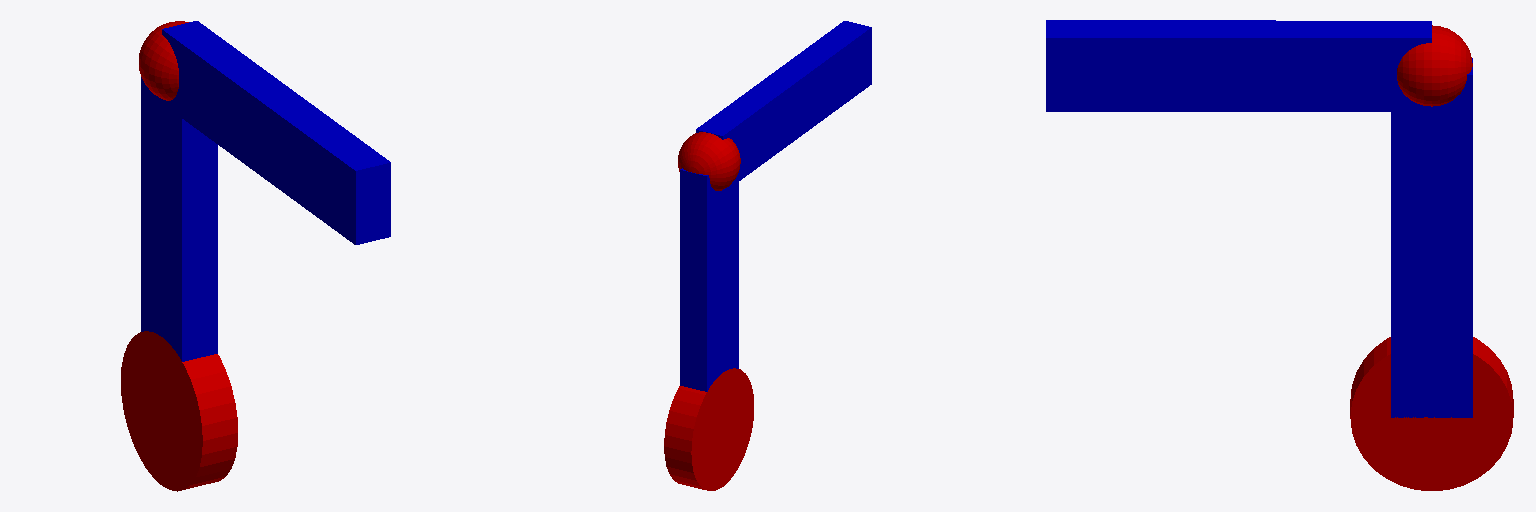
robot.urdf — TwoLinkStruct7906941462:
<?xml version="1.0"?>
<robot  name="TwoLinkStruct7906941462" >
 <material  name="blue" >
  <color  rgba="0 0 0.8 1.0" />
 </material>
 <material  name="red" >
  <color  rgba="0.8 0 0 1.0" />
 </material>
 <link  name="base_link" >
  <visual >
   <origin  rpy="0 1.5707 0"  xyz="0 0 0" />
   <material  name="red" />
   <geometry >
    <cylinder  length="0.05"  radius="0.1" />
   </geometry>
  </visual>
 </link>
 <joint  type="revolute"  name="joint1" >
  <parent  link="base_link" />
  <child  link="link1" />
  <origin  xyz="0 0 0"  rpy="0 0 0" />
  <axis  xyz="1 0 0" />
 </joint>
 <link  name="link1" >
  <inertial >
   <origin  rpy="0 0 0"  xyz="0 0 0.23165449924946352" />
   <mass  value="1.16347092363321" />
   <inertia  ixy="0.0"  iyy="0.0004847795515138375"  izz="0.021054482816478693"  ixz="0.0"  ixx="0.021054482816478693"  iyz="0.0" />
  </inertial>
  <visual >
   <origin  rpy="0 0 0"  xyz="0 0 0.23165449924946352" />
   <material  name="blue" />
   <geometry >
    <box  size="0.05 0.1 0.46330899849892704" />
   </geometry>
  </visual>
 </link>
 <joint  type="fixed"  name="joint-joint-1" >
  <parent  link="link1" />
  <child  link="joint-link-1" />
  <origin  xyz="0 0 0.46330899849892704"  rpy="1.5707 0 0" />
  <axis  xyz="1 0 0" />
 </joint>
 <link  name="joint-link-1" >
  <inertial >
   <origin  rpy="0 0 0"  xyz="0 0 0" />
   <mass  value="0.5929468383849513" />
   <inertia  ixy="0"  iyy="0"  izz="0"  ixz="0"  ixx="0"  iyz="0" />
  </inertial>
  <visual >
   <origin  rpy="0 0 0"  xyz="0 0 0" />
   <material  name="red" />
   <geometry >
    <sphere  radius="0.05" />
   </geometry>
  </visual>
 </link>
 <joint  type="revolute"  name="joint2" >
  <parent  link="link1" />
  <child  link="link2" />
  <origin  xyz="0 0 0.46330899849892704"  rpy="1.5707 0 0" />
  <axis  xyz="1 0 0" />
 </joint>
 <link  name="link2" >
  <inertial >
   <origin  rpy="0 0 0"  xyz="0 0 0.23614240457787478" />
   <mass  value="1.1970724539278215" />
   <inertia  ixy="0.0"  iyy="0.0004847795515138375"  izz="0.021868690712173632"  ixz="0.0"  ixx="0.021868690712173632"  iyz="0.0" />
  </inertial>
  <visual >
   <origin  rpy="0 0 0"  xyz="0 0 0.23614240457787478" />
   <material  name="blue" />
   <geometry >
    <box  size="0.05 0.1 0.47228480915574955" />
   </geometry>
  </visual>
 </link>
 <joint  type="fixed"  name="eef_joint" >
  <parent  link="link2" />
  <child  link="eef" />
  <origin  xyz="0 0 0.47228480915574955"  rpy="0 0 0" />
 </joint>
 <link  name="eef" >
  <inertial >
   <origin  rpy="0 0 0"  xyz="0 0 0" />
   <mass  value="1" />
   <inertia  ixy="0"  iyy="0"  izz="0"  ixz="0"  ixx="0"  iyz="0" />
  </inertial>
 </link>
 <transmission  name="motor1" >
  <type  xmltext="SimpleTransmission" >
   SimpleTransmission
  </type>
  <actuator  name="motor1" >
   <mechanicalreduction  xmltext="1" >
    1
   </mechanicalreduction>
  </actuator>
  <joint  name="joint1" />
 </transmission>
 <transmission  name="motor2" >
  <type  xmltext="SimpleTransmission" >
   SimpleTransmission
  </type>
  <actuator  name="motor2" >
   <mechanicalreduction  xmltext="1" >
    1
   </mechanicalreduction>
  </actuator>
  <joint  name="joint2" />
 </transmission>
</robot>

<!-- {'carti': array([-0.1 ,  0.14,  0.85]), 'cartd': array([-0.1 ,  0.32,  1.29]), 'tau_mu': 0.14626291443588682, 'b0': 0.7446877888854928, 'Km': 2.3898283577258357, 'k_velocity': 2.118824905959426, 'tau_max_m': 4.877246062899967, 'omega_max_m': 4950.929707110646, 'gear_ratio': 20.82737411462478, 'Kp': 25.327829098554183, 'Kd': 19.70387999184219, 'm_m': 0.5929468383849513, 'l1': 0.46330899849892704, 'l2': 0.47228480915574955, 'k1': 24233.856307084956, 'k2': 351973437.3514374, 'k3': 254219343.42176357}-->

--- Facts derived from the render (not from the file) ---
The picture shows the robot from 3 angles, left to right: view 1: azimuth 30°, elevation 25°; view 2: azimuth 150°, elevation 25°; view 3: azimuth 270°, elevation 25°; orthographic projection.
Robot: TwoLinkStruct7906941462 — 5 links, 4 joints (2 revolute, 2 fixed); root link base_link; default pose: all joints at 0.
Links seen in each view (by area): view 1: link2, link1, base_link, joint-link-1; view 2: link1, link2, base_link, joint-link-1; view 3: link2, link1, base_link, joint-link-1.
Link boxes in pixels (x1,y1,x2,y2): link2: (162, 21, 390, 244); link1: (141, 77, 217, 361); base_link: (121, 331, 237, 491); joint-link-1: (139, 21, 188, 100); link1: (680, 168, 738, 391); link2: (696, 21, 871, 189); base_link: (664, 368, 753, 490); joint-link-1: (678, 132, 740, 190); link2: (1046, 20, 1431, 111); link1: (1391, 58, 1472, 417); base_link: (1350, 337, 1513, 490); joint-link-1: (1397, 25, 1472, 106).
Bounding box of the posed robot: 0.1 × 0.5723 × 0.6134 m (x, y, z).
Geometry: primitives only (box / cylinder / sphere), no mesh files.
